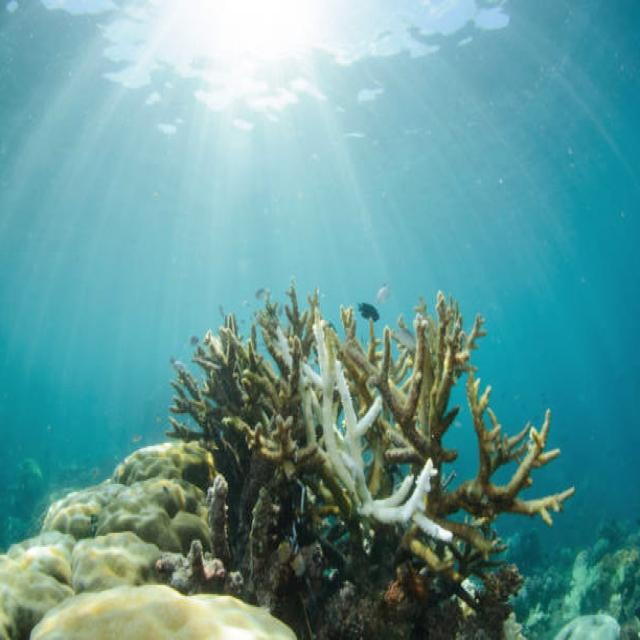Coral: (155, 277, 575, 640)
